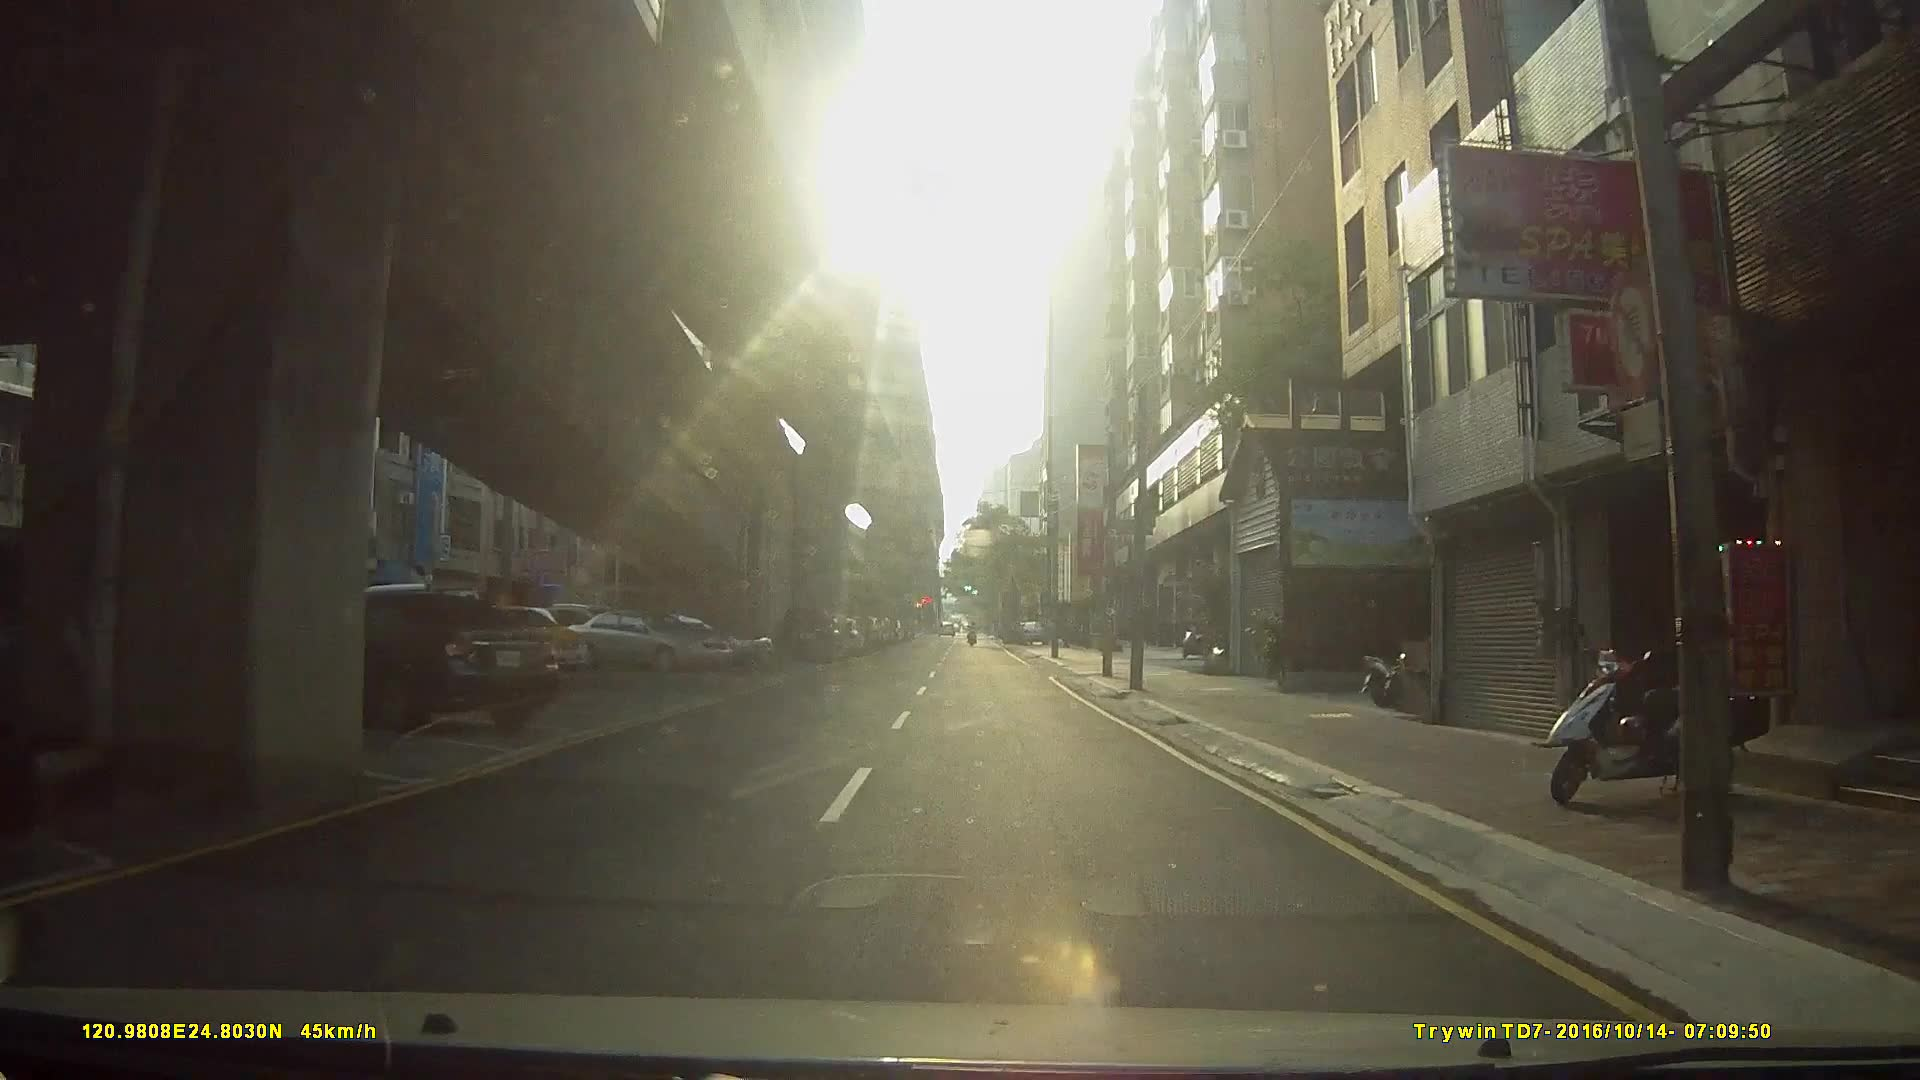vehicle: (295, 593, 566, 738), (560, 607, 735, 673), (774, 603, 843, 663)
